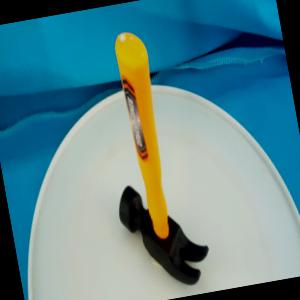martelo: (87, 23, 214, 297)
